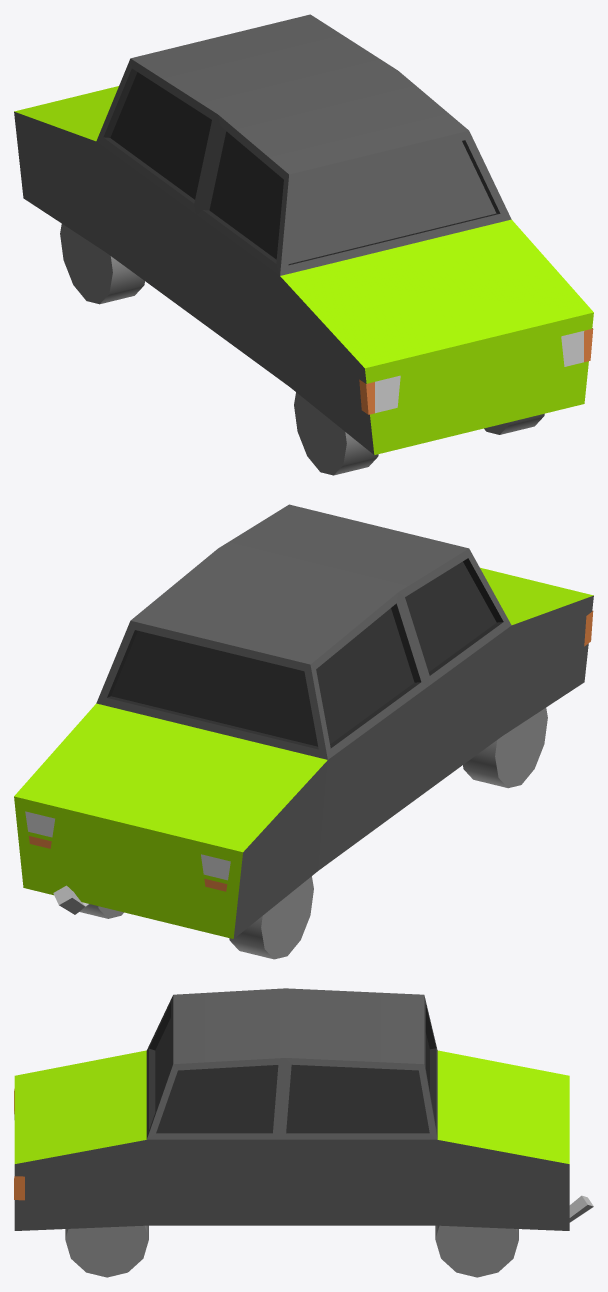
The model's file is car_mixed_16.fbx.
3 views of the same model, one above another, from view 1: azimuth 30°, elevation 25°; view 2: azimuth 150°, elevation 25°; view 3: azimuth 270°, elevation 25° (orthographic). The views are drawn at different scales.
Visible parts, largest first — view 1: car_mixed_16; view 2: car_mixed_16; view 3: car_mixed_16.
Part boxes in pixels (left/top/right/bottom): car_mixed_16: left=14, top=14, right=593, bottom=475; car_mixed_16: left=14, top=504, right=593, bottom=959; car_mixed_16: left=14, top=988, right=593, bottom=1277.
Bounding box in the file's own units: 1.6 × 1.8 × 4.39.
